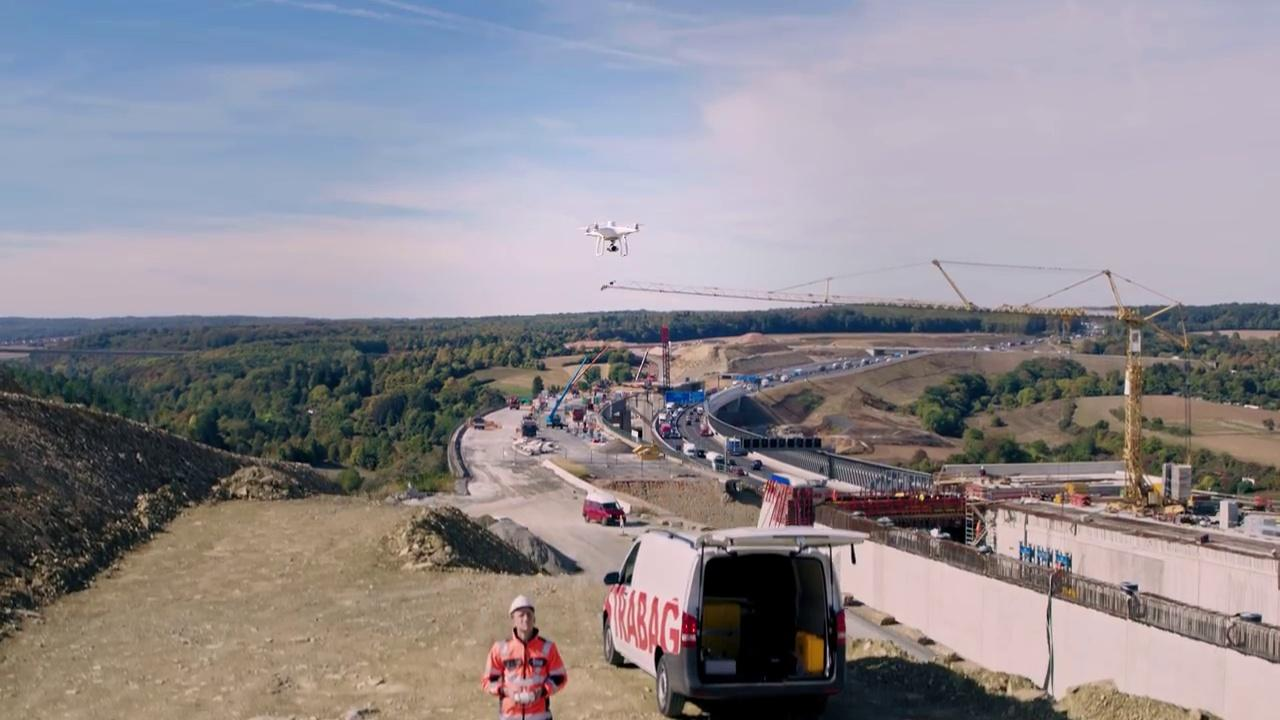drone: (573, 218, 647, 259)
